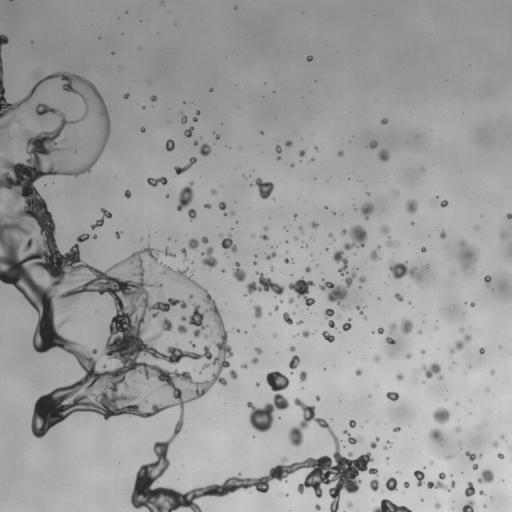droplet: (247, 371, 289, 432), (319, 272, 356, 308), (245, 272, 285, 295), (289, 277, 314, 308), (426, 472, 455, 492), (459, 240, 478, 269), (255, 178, 273, 199), (201, 246, 217, 267), (422, 363, 442, 379), (432, 407, 450, 424), (221, 234, 237, 252), (232, 262, 245, 282), (360, 203, 373, 219), (477, 469, 493, 482), (0, 117, 14, 131), (400, 319, 412, 334), (414, 470, 424, 486), (429, 429, 442, 441), (406, 199, 417, 213), (289, 355, 299, 370), (465, 482, 475, 497), (386, 477, 397, 490), (370, 246, 380, 260), (378, 149, 389, 161), (322, 331, 334, 342), (462, 500, 474, 511), (341, 318, 351, 331), (200, 144, 211, 155), (253, 305, 262, 318), (188, 238, 198, 249), (165, 139, 174, 151), (283, 312, 292, 324), (386, 392, 398, 401), (369, 479, 378, 491), (324, 308, 334, 318), (184, 126, 193, 137), (177, 325, 187, 334), (188, 209, 196, 219), (386, 239, 396, 247), (484, 275, 491, 286), (299, 371, 306, 382), (394, 293, 403, 301), (229, 370, 237, 379), (369, 140, 377, 148), (218, 202, 226, 210), (389, 323, 396, 332), (386, 337, 395, 344), (302, 330, 310, 337), (396, 373, 403, 381), (440, 200, 447, 207), (381, 226, 388, 233), (328, 320, 335, 327), (181, 115, 187, 123), (275, 145, 281, 153), (440, 230, 446, 238), (260, 234, 268, 240), (349, 420, 355, 428), (150, 95, 157, 101), (125, 190, 131, 197), (311, 222, 318, 228), (251, 357, 258, 363), (284, 258, 292, 263), (381, 118, 387, 124), (299, 150, 305, 156), (202, 237, 208, 243), (359, 276, 365, 282), (377, 327, 383, 333), (255, 347, 261, 353), (373, 355, 379, 361), (355, 369, 361, 375), (434, 502, 440, 508), (285, 141, 292, 146), (204, 203, 211, 208), (115, 231, 120, 238), (123, 93, 129, 98), (338, 150, 343, 156), (305, 266, 310, 272), (288, 297, 293, 303), (289, 346, 295, 351), (455, 427, 461, 432), (493, 441, 498, 447), (497, 453, 503, 458), (404, 481, 409, 487), (347, 501, 352, 507), (315, 504, 320, 510), (393, 427, 400, 431), (307, 56, 312, 61), (211, 189, 216, 194), (263, 226, 268, 231), (500, 232, 505, 237), (421, 247, 426, 252), (420, 349, 425, 354), (479, 348, 484, 353), (296, 320, 302, 324), (241, 364, 247, 368), (192, 117, 197, 121), (141, 127, 145, 132), (293, 213, 297, 218), (507, 213, 511, 218), (342, 229, 346, 234), (406, 354, 411, 358), (315, 395, 319, 400), (473, 464, 477, 469), (479, 490, 484, 494), (215, 135, 219, 139), (328, 233, 332, 237), (274, 306, 278, 310), (490, 370, 494, 374), (500, 435, 504, 439), (383, 446, 387, 450), (446, 455, 450, 459), (299, 226, 302, 231), (194, 141, 197, 145), (277, 156, 280, 160), (470, 303, 474, 306), (459, 328, 463, 331), (284, 493, 288, 496), (196, 111, 199, 114), (17, 120, 20, 123), (62, 139, 65, 142), (310, 158, 313, 161), (93, 235, 96, 238), (253, 262, 256, 265), (363, 316, 366, 319), (430, 461, 433, 464), (509, 445, 511, 449), (210, 88, 212, 91), (260, 131, 263, 133), (7, 137, 10, 139), (290, 164, 293, 166), (166, 194, 168, 197), (231, 212, 234, 214), (411, 222, 414, 224), (294, 237, 297, 239), (304, 245, 306, 248), (271, 267, 273, 270), (222, 269, 224, 272), (273, 334, 276, 336), (468, 365, 471, 367), (256, 383, 259, 385), (386, 457, 389, 459), (315, 147, 317, 149), (367, 192, 369, 194), (393, 193, 395, 195), (325, 206, 327, 208), (224, 213, 226, 215), (435, 327, 437, 329), (388, 441, 390, 443), (279, 493, 281, 495), (483, 505, 485, 507)
ligament: (0, 56, 377, 511), (332, 225, 367, 275), (389, 261, 420, 280), (372, 499, 411, 511), (177, 181, 193, 210), (91, 208, 111, 228), (450, 334, 471, 353), (174, 157, 196, 174), (343, 429, 362, 444), (147, 177, 167, 186), (0, 34, 8, 52), (466, 452, 481, 461), (370, 438, 379, 448), (266, 252, 276, 259), (181, 248, 186, 260), (356, 306, 363, 314), (432, 196, 438, 204), (189, 341, 195, 347), (510, 251, 511, 255)
